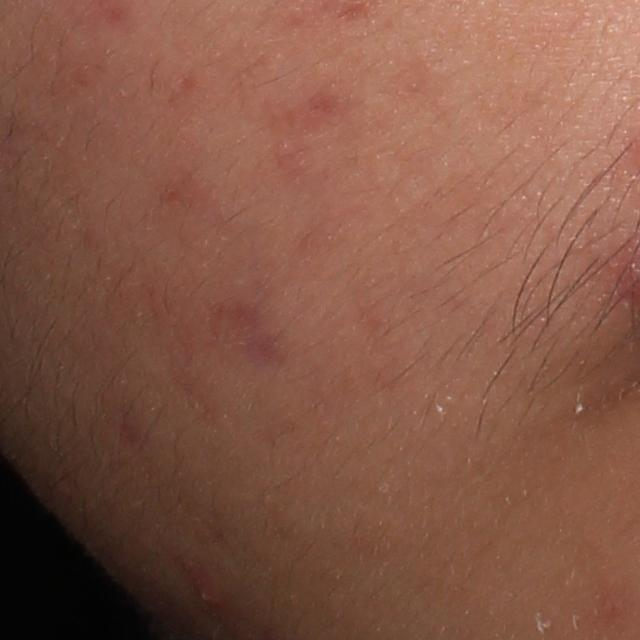papule: (185, 564, 235, 613)
